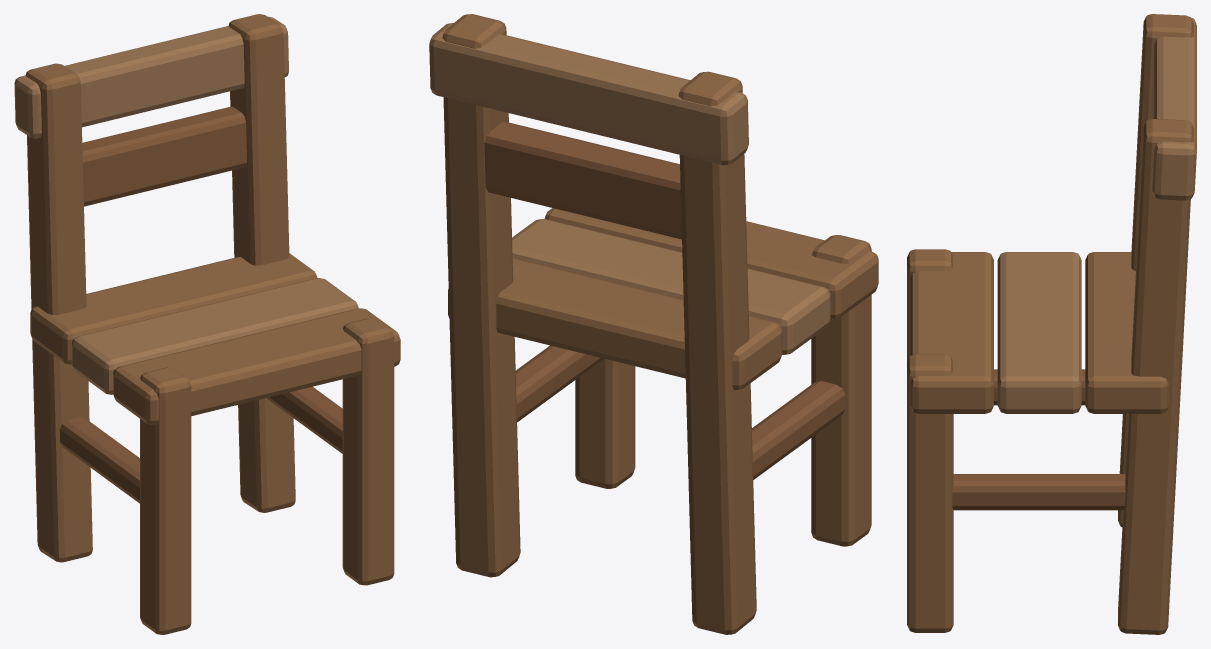
Rendered from sumicio_silla.glb.
3 renders of one model, left to right at view 1: azimuth 30°, elevation 25°; view 2: azimuth 150°, elevation 25°; view 3: azimuth 270°, elevation 25°, orthographic. The views are drawn at different scales.
Visible parts, largest first — view 1: Silla; view 2: Silla; view 3: Silla.
Boxes of the visible parts, <box> form: Silla: <box>14,14,400,634</box>; Silla: <box>429,14,878,634</box>; Silla: <box>907,14,1196,634</box>.
Bounding box in the file's own units: 0.41 × 0.7162 × 0.3739.
